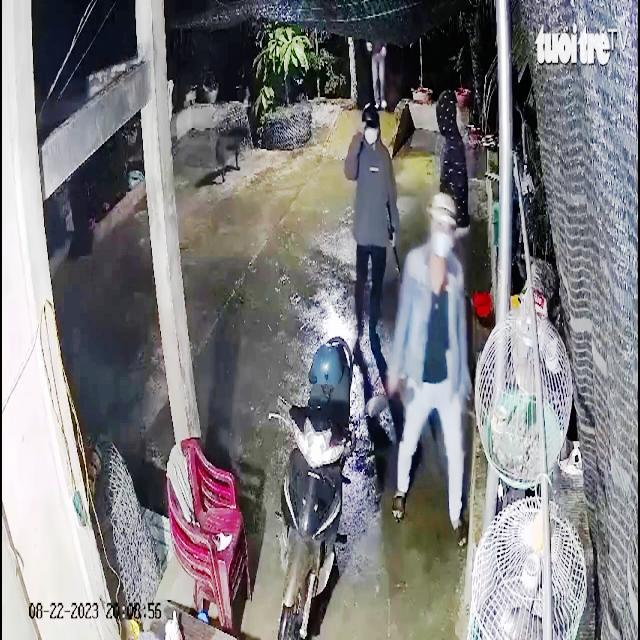Knife: (358, 371, 412, 422)
